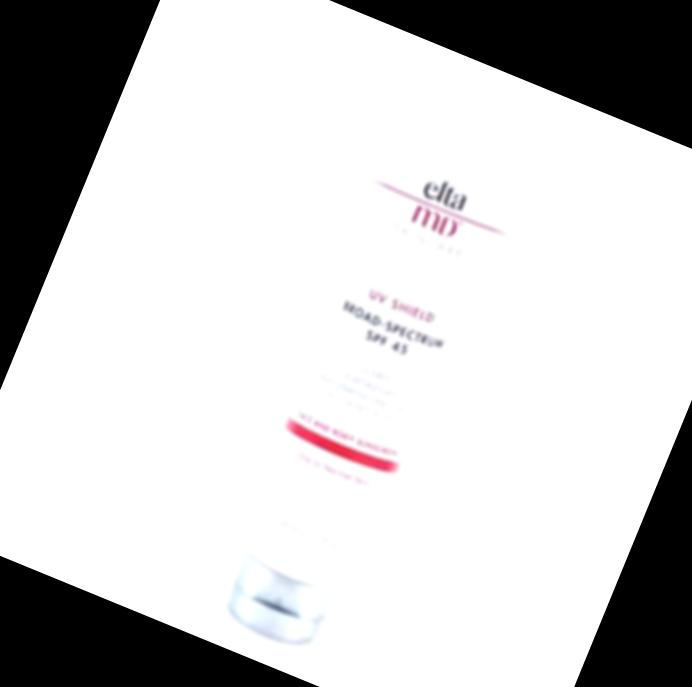cosmetic: (178, 67, 570, 673)
